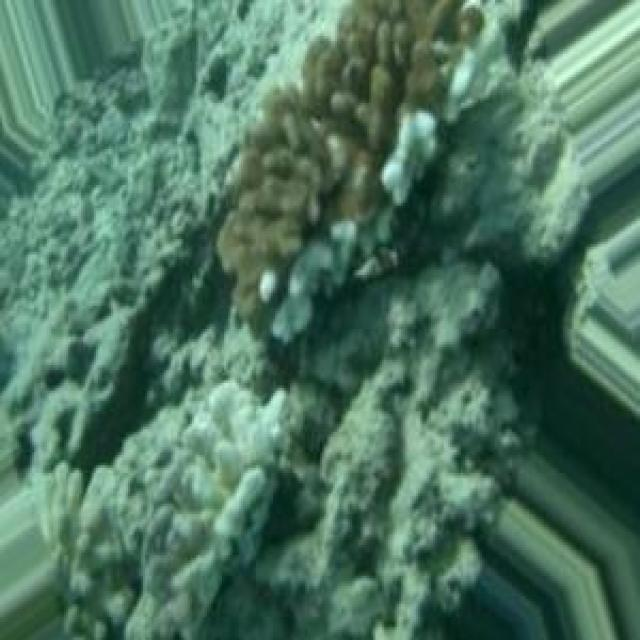Healthy: (219, 1, 479, 327)
